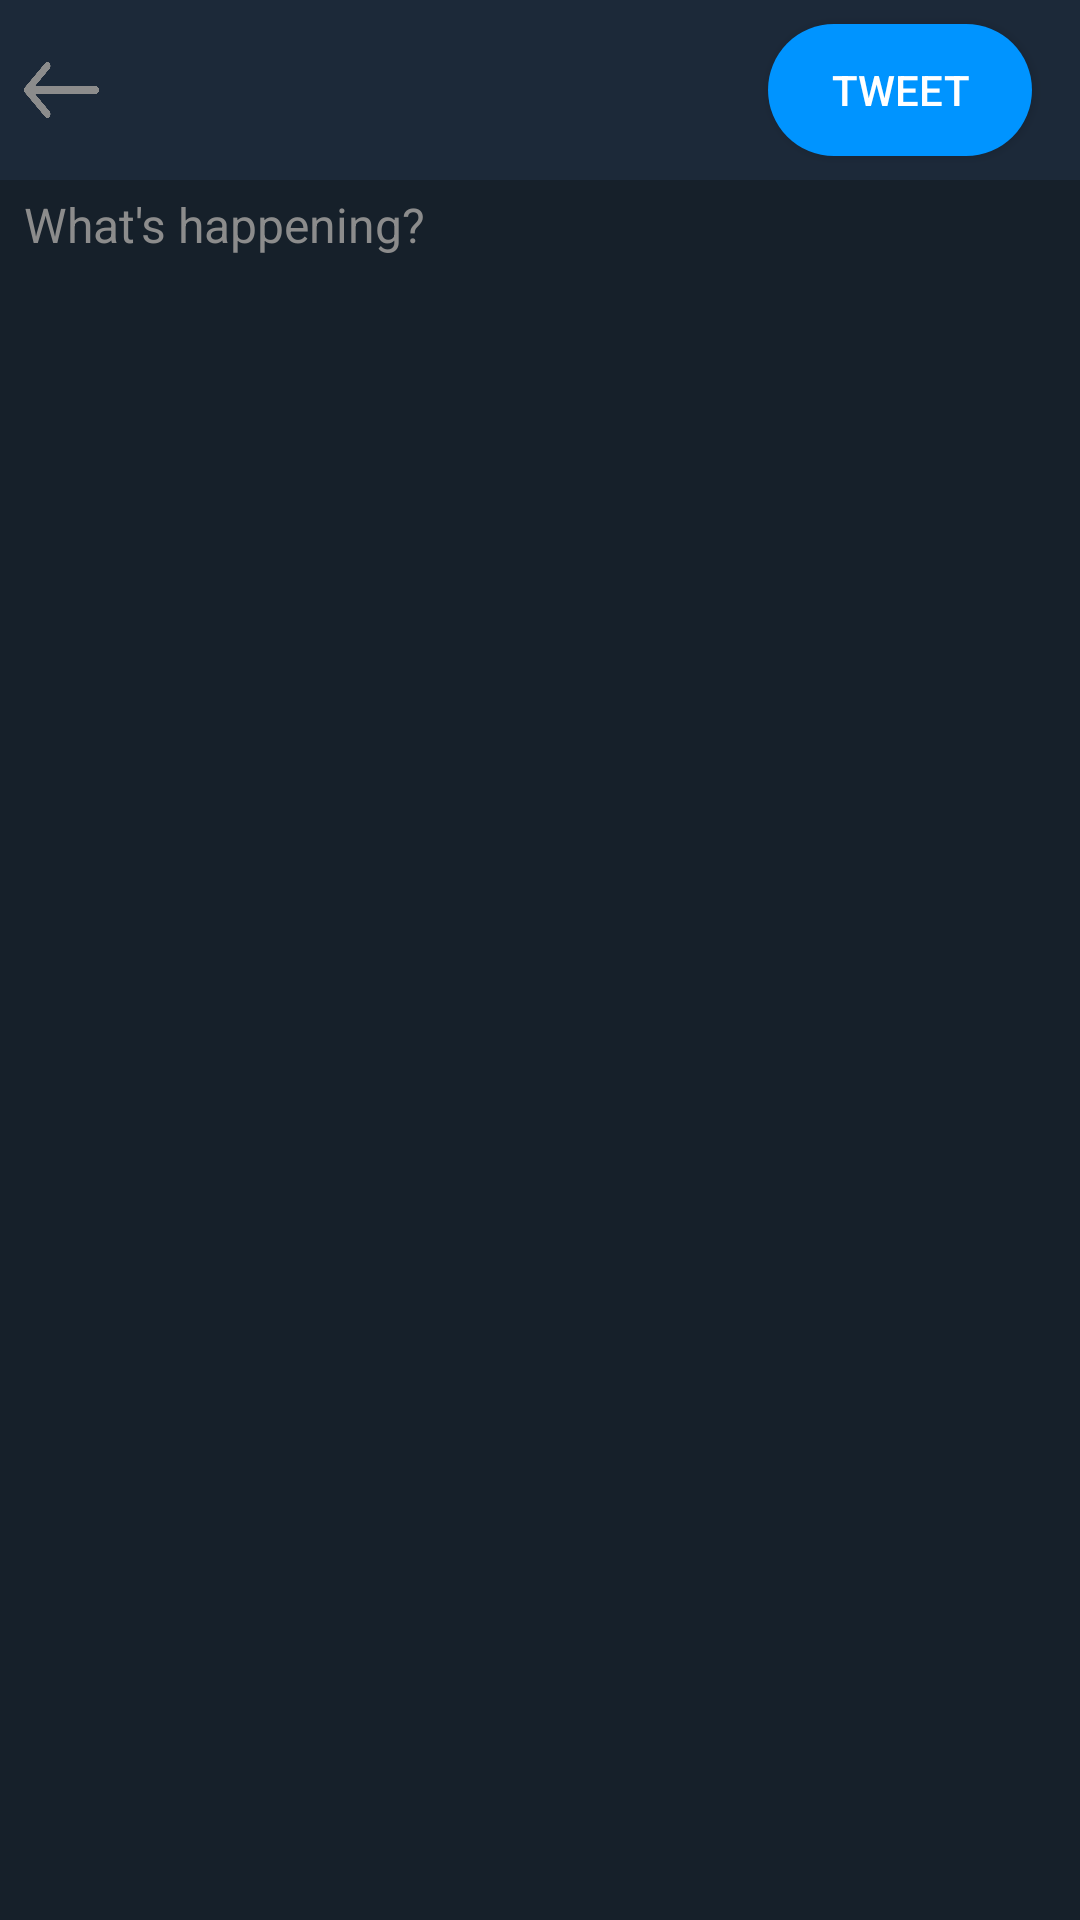

Point at icon controls on the screen. Image size 1080x1920, points as point (x, y).
back: point (61, 90)
